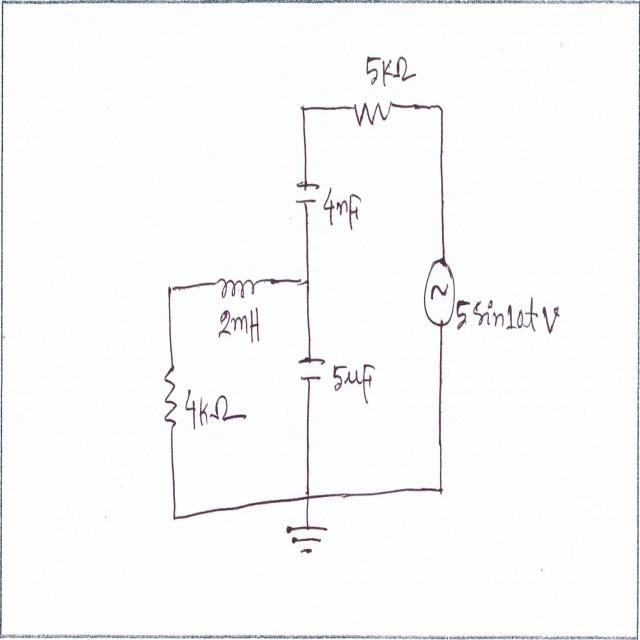ac_current: (419, 254, 461, 326)
capacitor: (292, 174, 322, 213), (297, 352, 330, 386)
ground: (280, 513, 332, 562)
inductor: (218, 268, 259, 302)
resistor: (352, 92, 392, 142), (162, 362, 179, 436)
